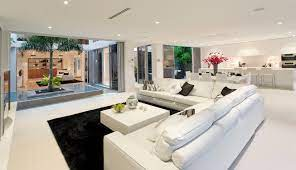Sofa: (102, 73, 268, 170)
